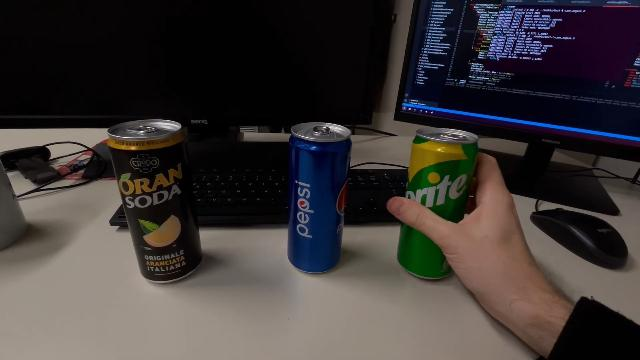OranSoda: (104, 116, 206, 288)
Pepsi: (284, 120, 354, 274)
Sprite: (395, 126, 481, 282)
